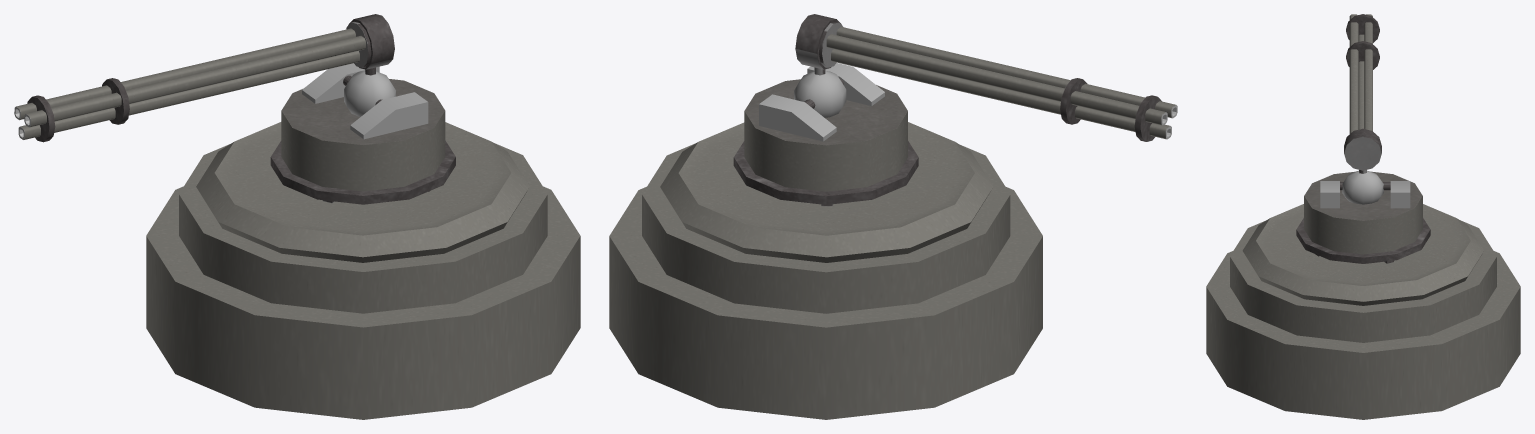
The model's file is Turret.fbx.
3 views of the same model, side by side, from view 1: azimuth 30°, elevation 25°; view 2: azimuth 150°, elevation 25°; view 3: azimuth 270°, elevation 25° (orthographic). The views are drawn at different scales.
Parts seen in each view (by area): view 1: polySurface16, polySurface10; view 2: polySurface16, polySurface10; view 3: polySurface16, polySurface10.
Part boxes in pixels (x1,y1,x2,y2): polySurface16: (146,63,580,419); polySurface10: (14,14,394,142); polySurface16: (609,63,1042,419); polySurface10: (795,14,1177,141); polySurface16: (1206,170,1520,419); polySurface10: (1344,14,1381,173).
Bounding box in the file's own units: 410 × 228 × 290.
